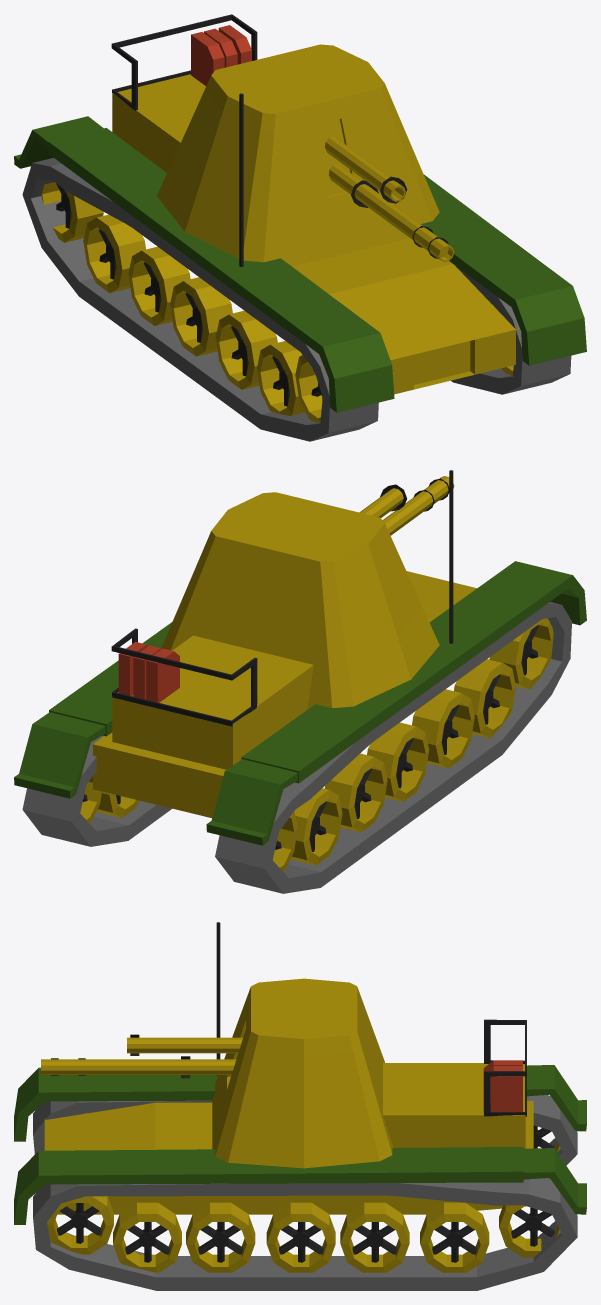
File: apc.glb
The picture shows the model from 3 angles, top to bottom: view 1: azimuth 30°, elevation 25°; view 2: azimuth 150°, elevation 25°; view 3: azimuth 270°, elevation 25°; orthographic projection. The views are drawn at different scales.
Parts seen in each view (by area): view 1: Light_Tank; view 2: Light_Tank; view 3: Light_Tank.
Boxes of the visible parts, x1=… form: Light_Tank: x1=14, y1=14, x2=586, y2=441; Light_Tank: x1=14, y1=470, x2=586, y2=893; Light_Tank: x1=14, y1=922, x2=586, y2=1290.
Bounding box in the file's own units: 2.06 × 2.4 × 4.61.
Materials: 2 (2 with a texture image).
